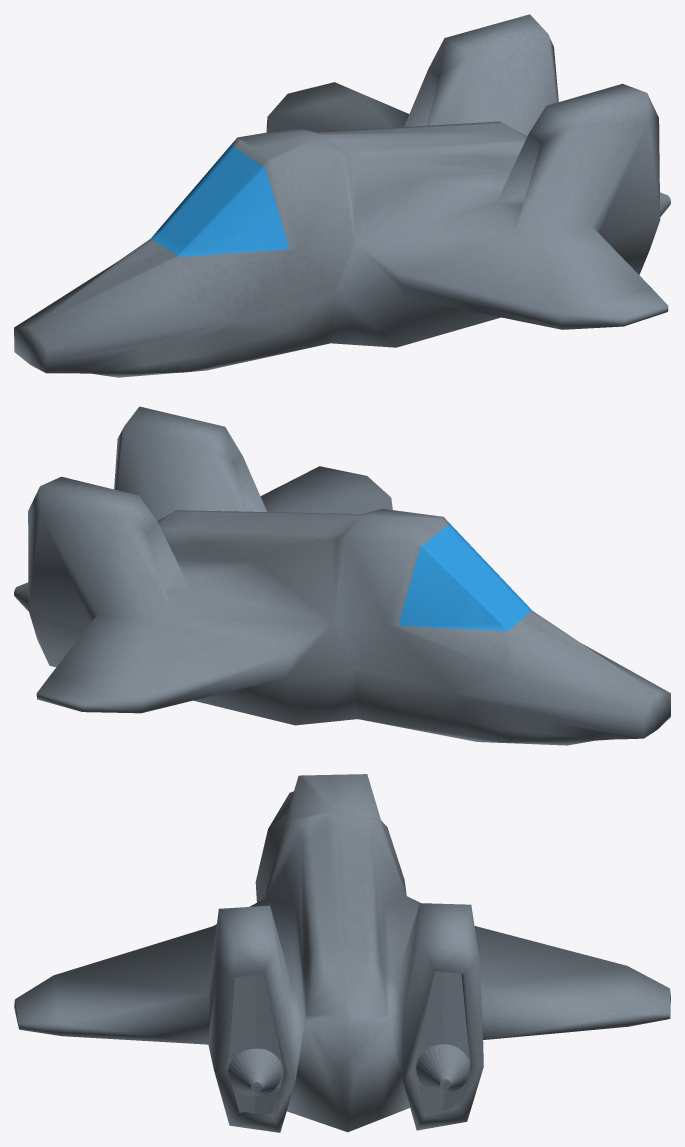
Rendered from Jet.glb.
3 views of the same model, one above another, from view 1: azimuth 30°, elevation 25°; view 2: azimuth 150°, elevation 25°; view 3: azimuth 270°, elevation 25° (orthographic). The views are drawn at different scales.
Visible parts, largest first — view 1: Jet; view 2: Jet; view 3: Jet.
Boxes of the visible parts, x1,y1,x2,y2 form: Jet: (14, 14, 670, 377); Jet: (14, 406, 670, 745); Jet: (14, 774, 670, 1132).
Bounding box in the file's own units: 17.71 × 6 × 15.91.
2 materials, 2 textured.
